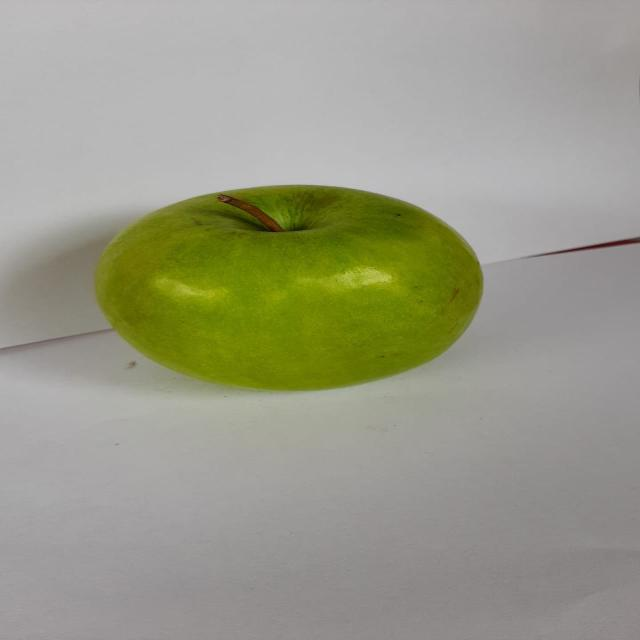50-_ripeness: (77, 177, 496, 401)
